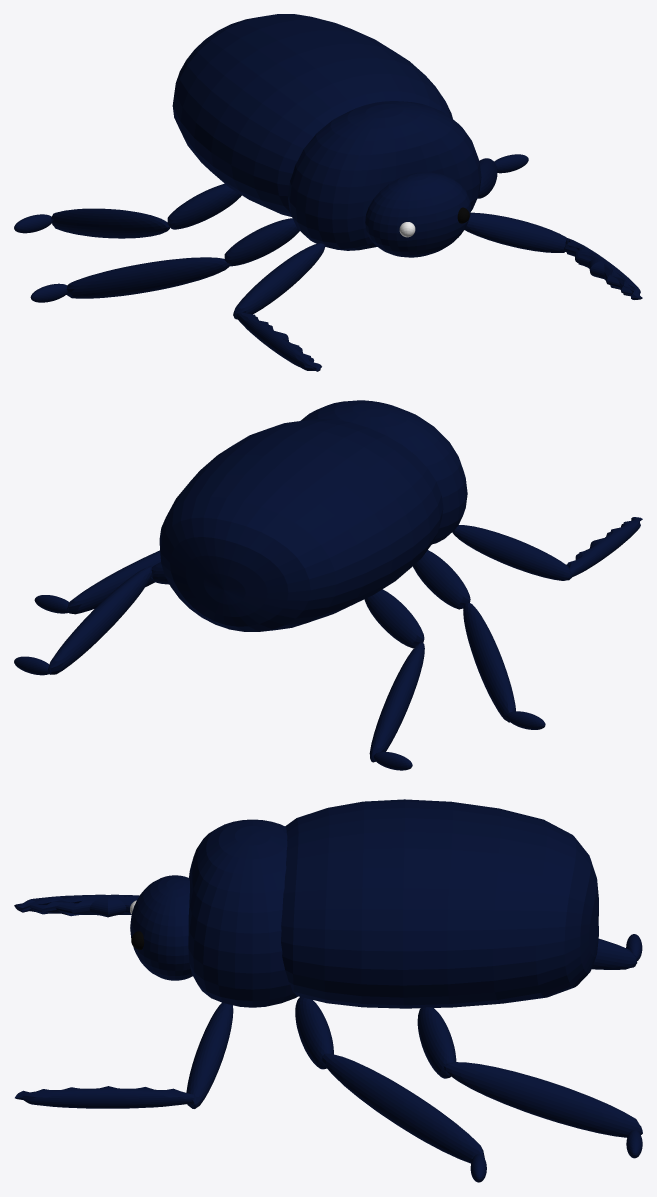
Rendered from Escarabajo rigg.glb.
The picture shows the model from 3 angles, top to bottom: view 1: azimuth 30°, elevation 25°; view 2: azimuth 150°, elevation 25°; view 3: azimuth 270°, elevation 25°; orthographic projection. The views are drawn at different scales.
Parts seen in each view (by area): view 1: Esfera.001; view 2: Esfera.001; view 3: Esfera.001.
Boxes of the visible parts, left/top/right/bottom form: Esfera.001: left=14, top=14, right=642, bottom=371; Esfera.001: left=14, top=400, right=642, bottom=770; Esfera.001: left=14, top=799, right=642, bottom=1182.
Size of the model in its own units: 5.75 by 2.29 by 5.34.
